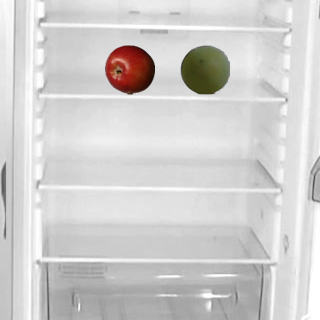Apple Braeburn: (104, 44, 154, 94)
Grape White 4: (179, 44, 229, 94)
